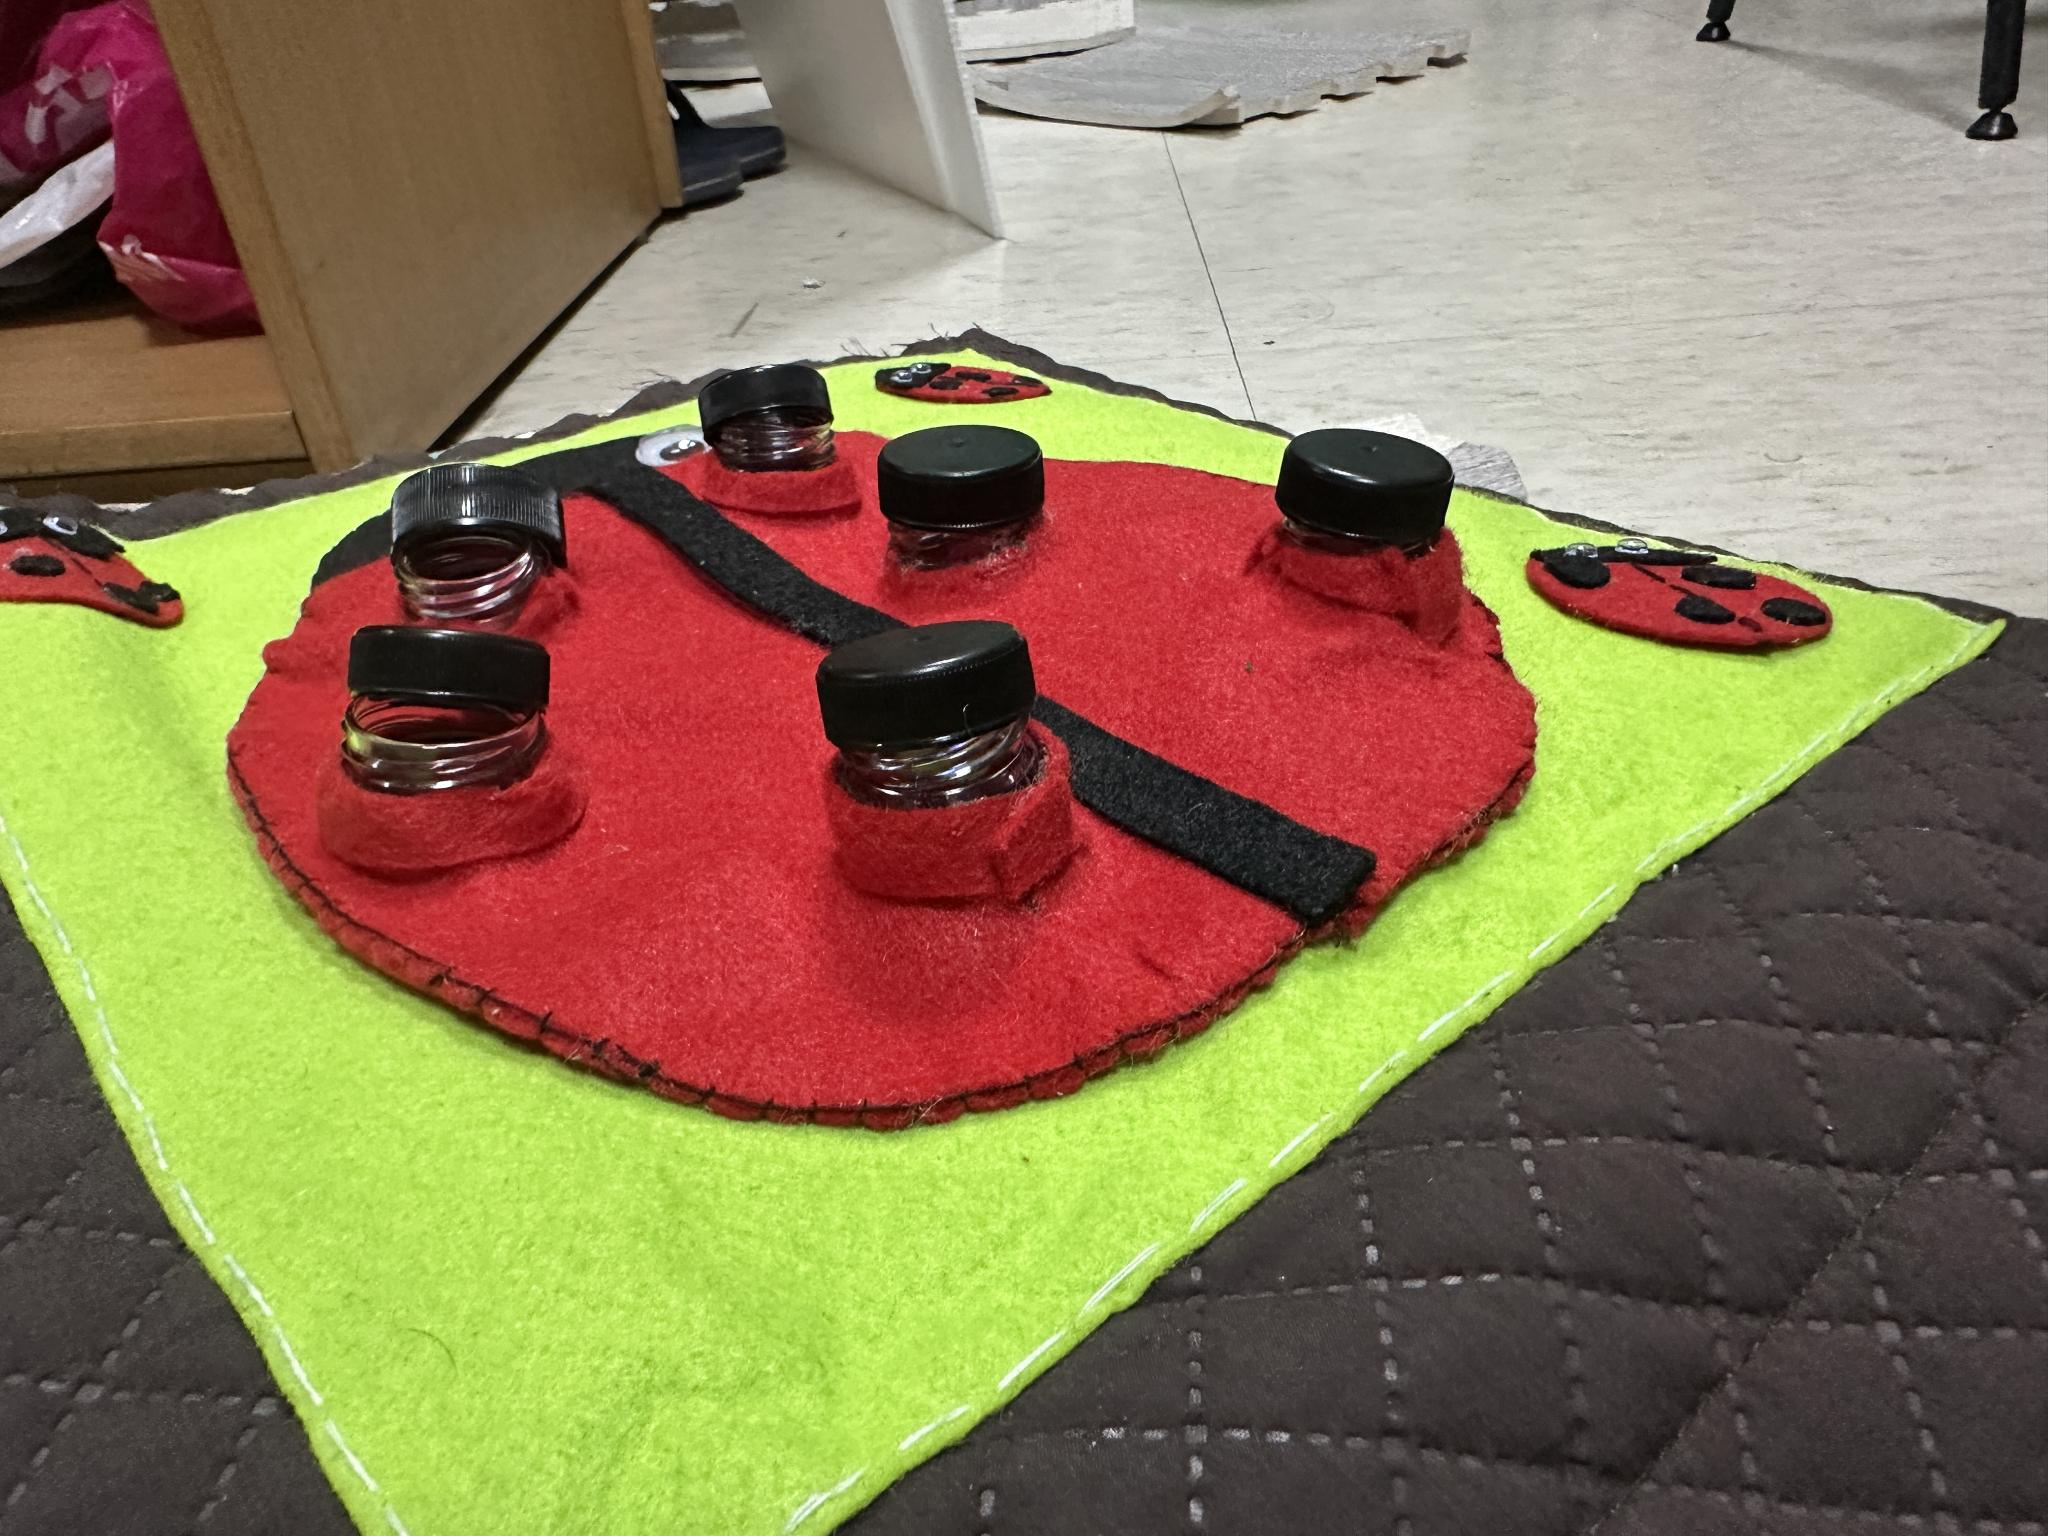cap_ng: (763, 608, 1090, 918), (305, 618, 598, 907), (1263, 408, 1476, 642), (371, 450, 605, 637), (876, 397, 1071, 582), (676, 349, 850, 523)
